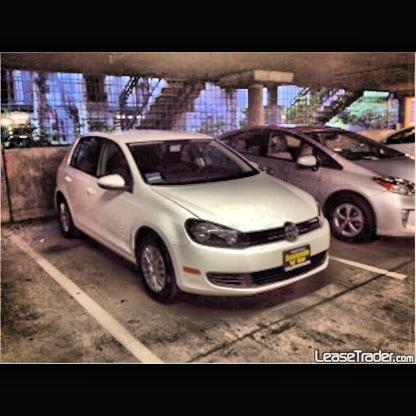Volkswagen Golf Hatchback 2012: (55, 131, 332, 308)
